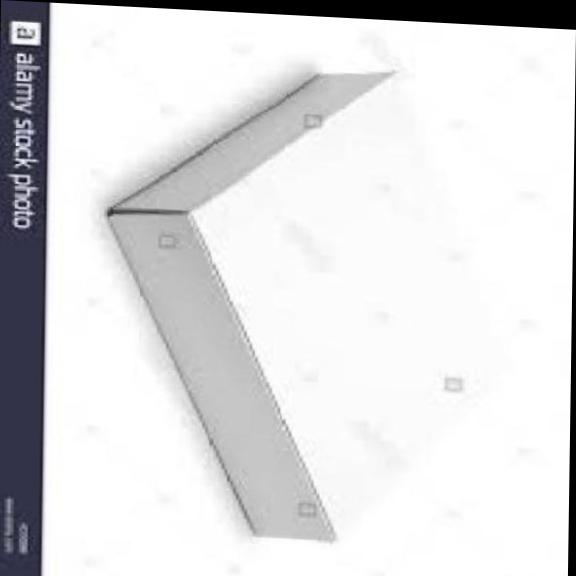Kertas: (104, 55, 503, 549), (109, 73, 503, 541)
